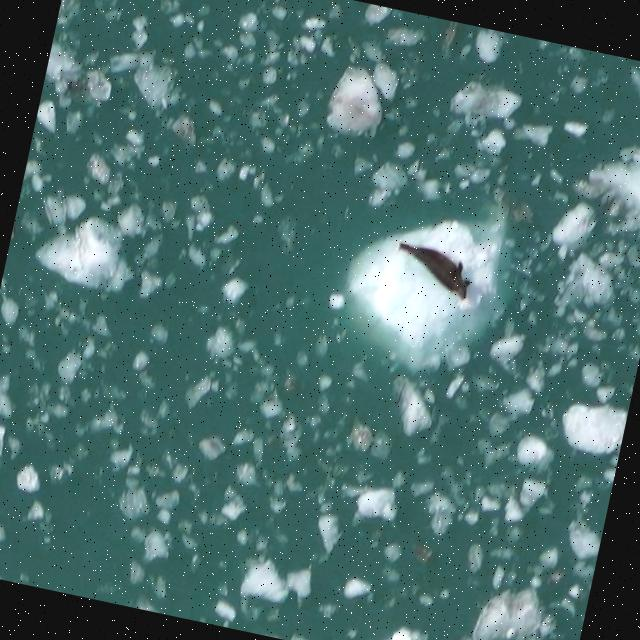seal: (390, 232, 482, 305)
